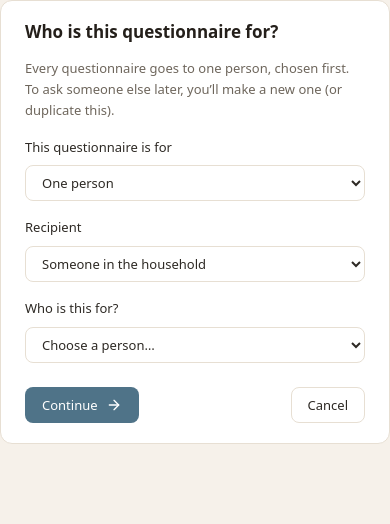
Test case: NewQuestionnaireStart (§17.3) › blocks Continue until a recipient is chosen (can’t author for nobody)
Click the button "Continue".
click(82, 405)  # box [25, 387, 139, 423]
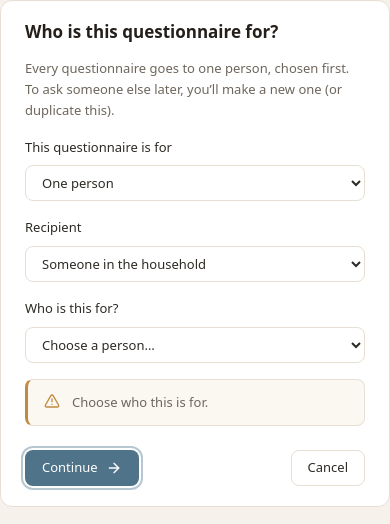
Check: the text "Choose who this is for." is shown, box [72, 392, 208, 413]
